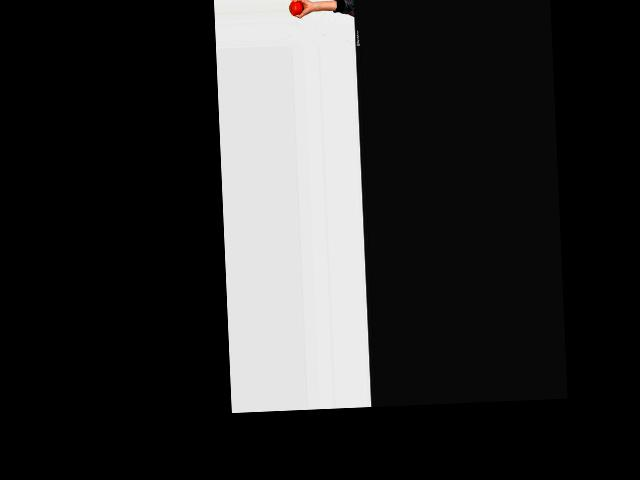tomato: (288, 0, 303, 15)
